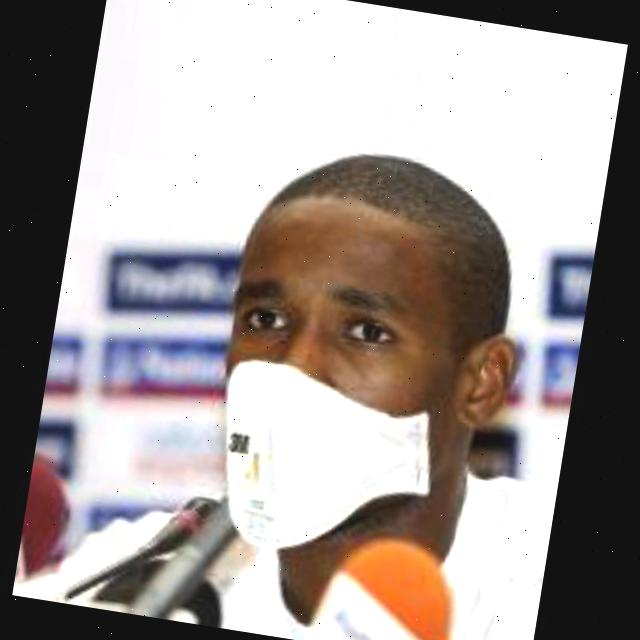suspicion: (172, 134, 546, 586)
